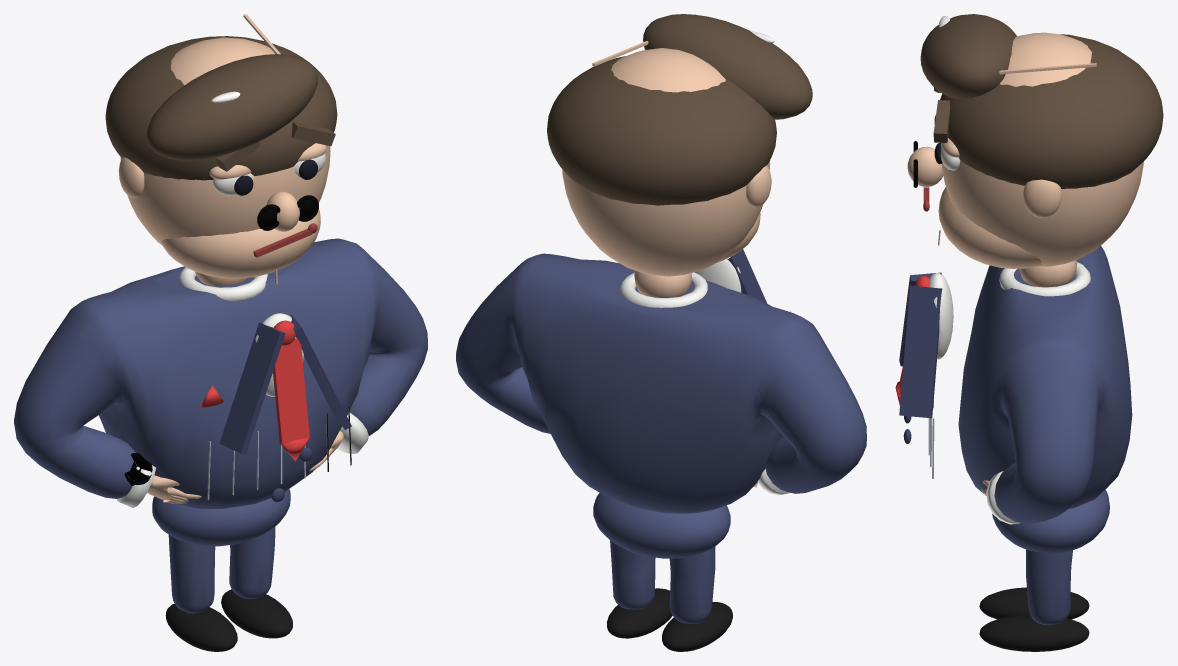
File: CEO.fbx
3 renders of one model, left to right at view 1: azimuth 30°, elevation 25°; view 2: azimuth 150°, elevation 25°; view 3: azimuth 270°, elevation 25°, orthographic.
Parts seen in each view (by area): view 1: CEO.001; view 2: CEO.001; view 3: CEO.001.
Boxes of the visible parts, <box> form: CEO.001: <box>14,14,427,651</box>; CEO.001: <box>456,14,866,651</box>; CEO.001: <box>895,14,1163,651</box>.
Size of the model in its own units: 174 by 246 by 99.29.
Materials: 1 (1 with a texture image).
